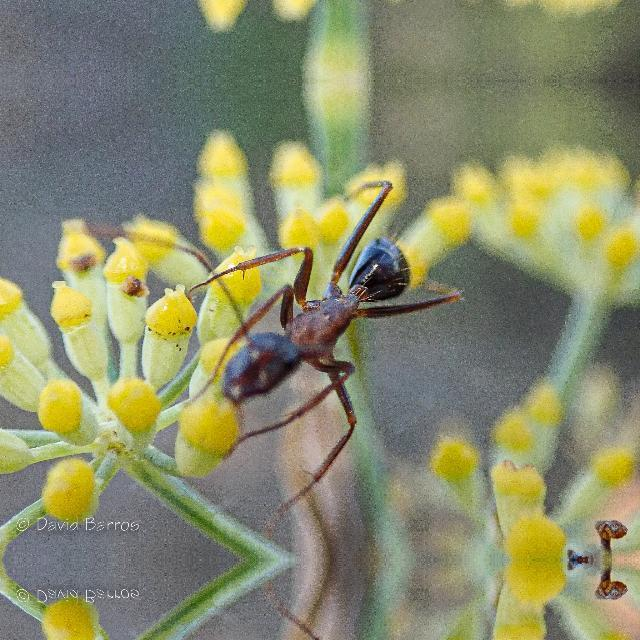Camponotus: (188, 206, 428, 442)
